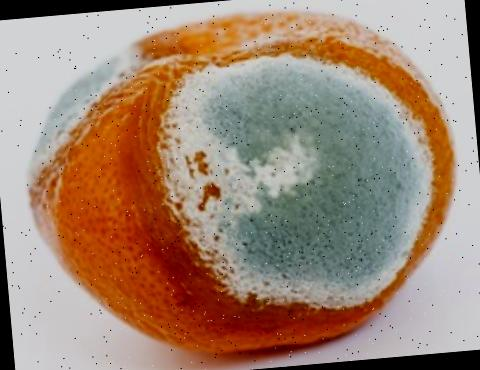Orange Rotten: (1, 0, 475, 370)
